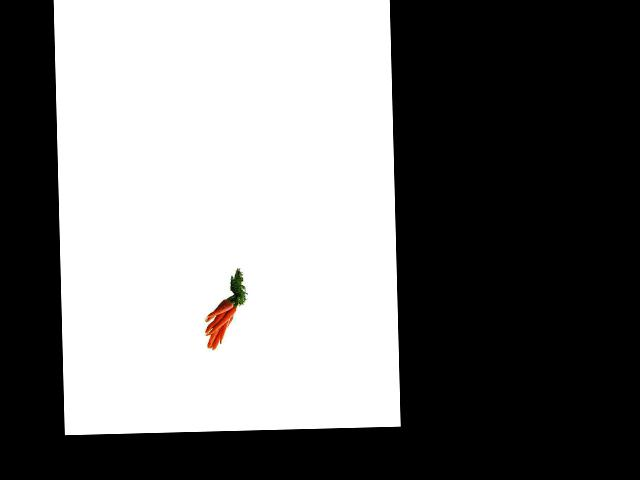carrot: (196, 298, 231, 316)
